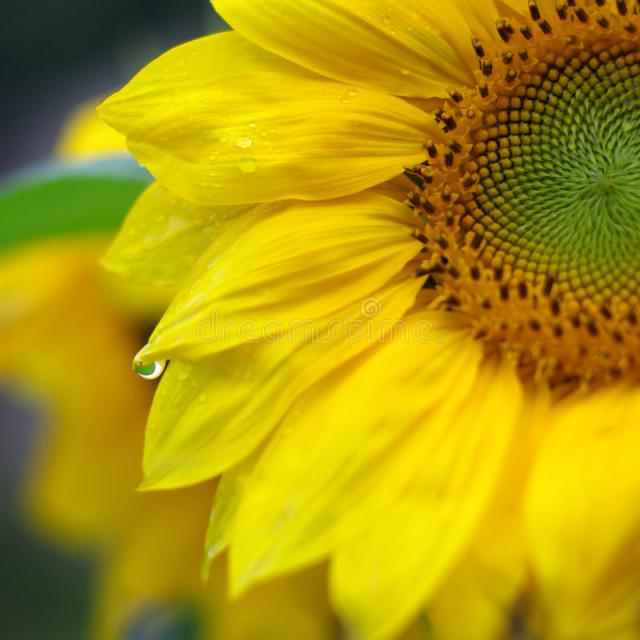sunflower: (43, 5, 640, 640)
